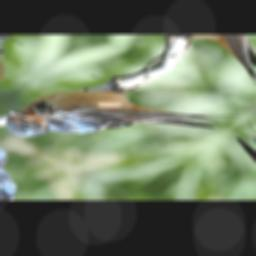Swallow: (0, 46, 244, 193)
